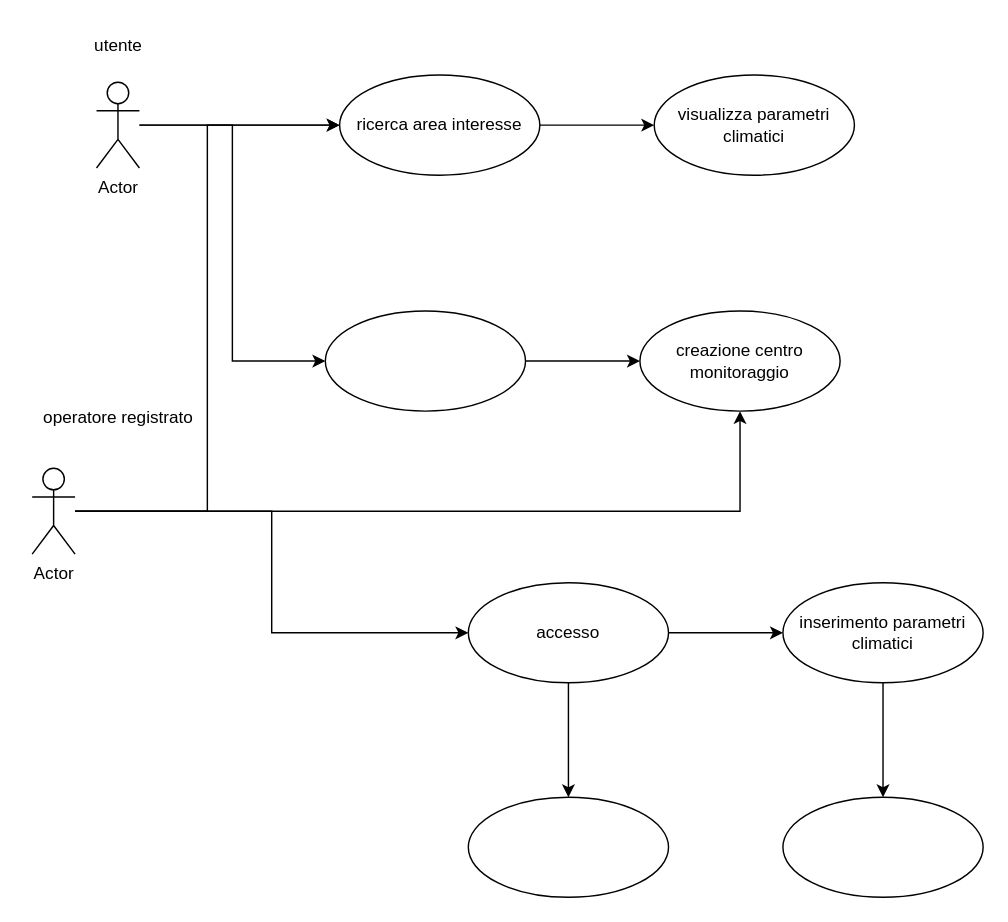
The diagram is 1008 pixels wide and 922 high, and some of its shapes have lost their labels. Here are the shapes that lost their labels. From the top down, the box of each, then its label:
(324, 310, 526, 411): registrazione
(467, 796, 669, 897): visualizzazione pagina utente
(781, 796, 983, 897): inserimento note
